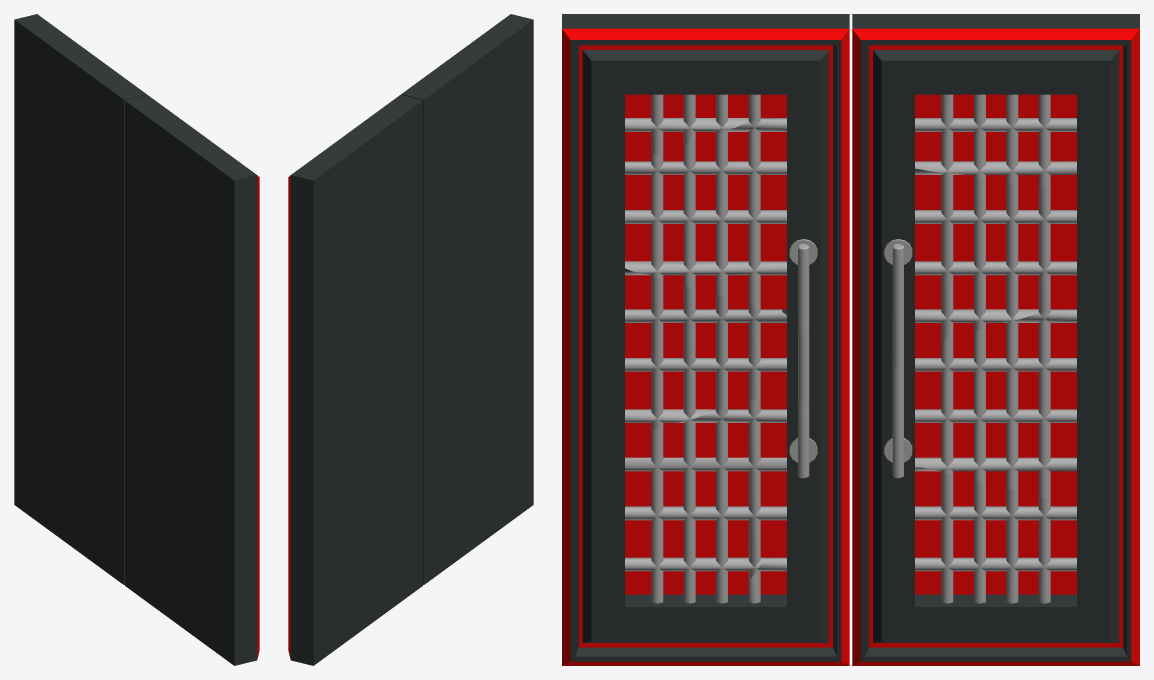
The model's file is TheCoolDoor.fbx.
3 renders of one model, left to right at view 1: azimuth 30°, elevation 25°; view 2: azimuth 150°, elevation 25°; view 3: azimuth 270°, elevation 25°, orthographic. The views are drawn at different scales.
Parts seen in each view (by area): view 1: DoorPiece4, DoorPiece8, DoorPiece6, DoorPiece1, DoorPiece3, DoorPiece2, DoorPiece7, DoorPiece9, DoorPiece5; view 2: DoorPiece8, DoorPiece7, DoorPiece6, DoorPiece4, DoorPiece9, DoorPiece2, DoorPiece1, DoorPiece3, DoorPiece5; view 3: DoorPiece4, DoorPiece6, DoorPiece8, DoorPiece7, DoorPiece2, DoorPiece9, DoorPiece3, DoorPiece1, DoorPiece5.
Boxes of the visible parts, bbox=[...] form: DoorPiece4: bbox=[125, 362, 259, 665]; DoorPiece8: bbox=[14, 14, 146, 199]; DoorPiece6: bbox=[14, 396, 124, 584]; DoorPiece1: bbox=[125, 95, 259, 299]; DoorPiece3: bbox=[125, 331, 259, 508]; DoorPiece2: bbox=[125, 147, 259, 349]; DoorPiece7: bbox=[14, 215, 124, 420]; DoorPiece9: bbox=[14, 151, 124, 356]; DoorPiece5: bbox=[125, 413, 185, 629]; DoorPiece8: bbox=[288, 95, 422, 311]; DoorPiece7: bbox=[288, 357, 422, 556]; DoorPiece6: bbox=[288, 421, 422, 665]; DoorPiece4: bbox=[423, 347, 533, 539]; DoorPiece9: bbox=[288, 201, 422, 376]; DoorPiece2: bbox=[423, 139, 533, 330]; DoorPiece1: bbox=[401, 14, 533, 145]; DoorPiece3: bbox=[423, 189, 533, 360]; DoorPiece5: bbox=[423, 411, 484, 584]; DoorPiece4: bbox=[562, 371, 849, 665]; DoorPiece6: bbox=[852, 450, 1139, 665]; DoorPiece8: bbox=[852, 14, 1139, 203]; DoorPiece7: bbox=[852, 286, 1139, 523]; DoorPiece2: bbox=[562, 89, 849, 335]; DoorPiece9: bbox=[852, 160, 1139, 369]; DoorPiece3: bbox=[562, 251, 849, 459]; DoorPiece1: bbox=[562, 14, 849, 185]; DoorPiece5: bbox=[690, 438, 849, 665].
Bounding box in the file's own units: 1.24 × 11.93 × 9.81.
